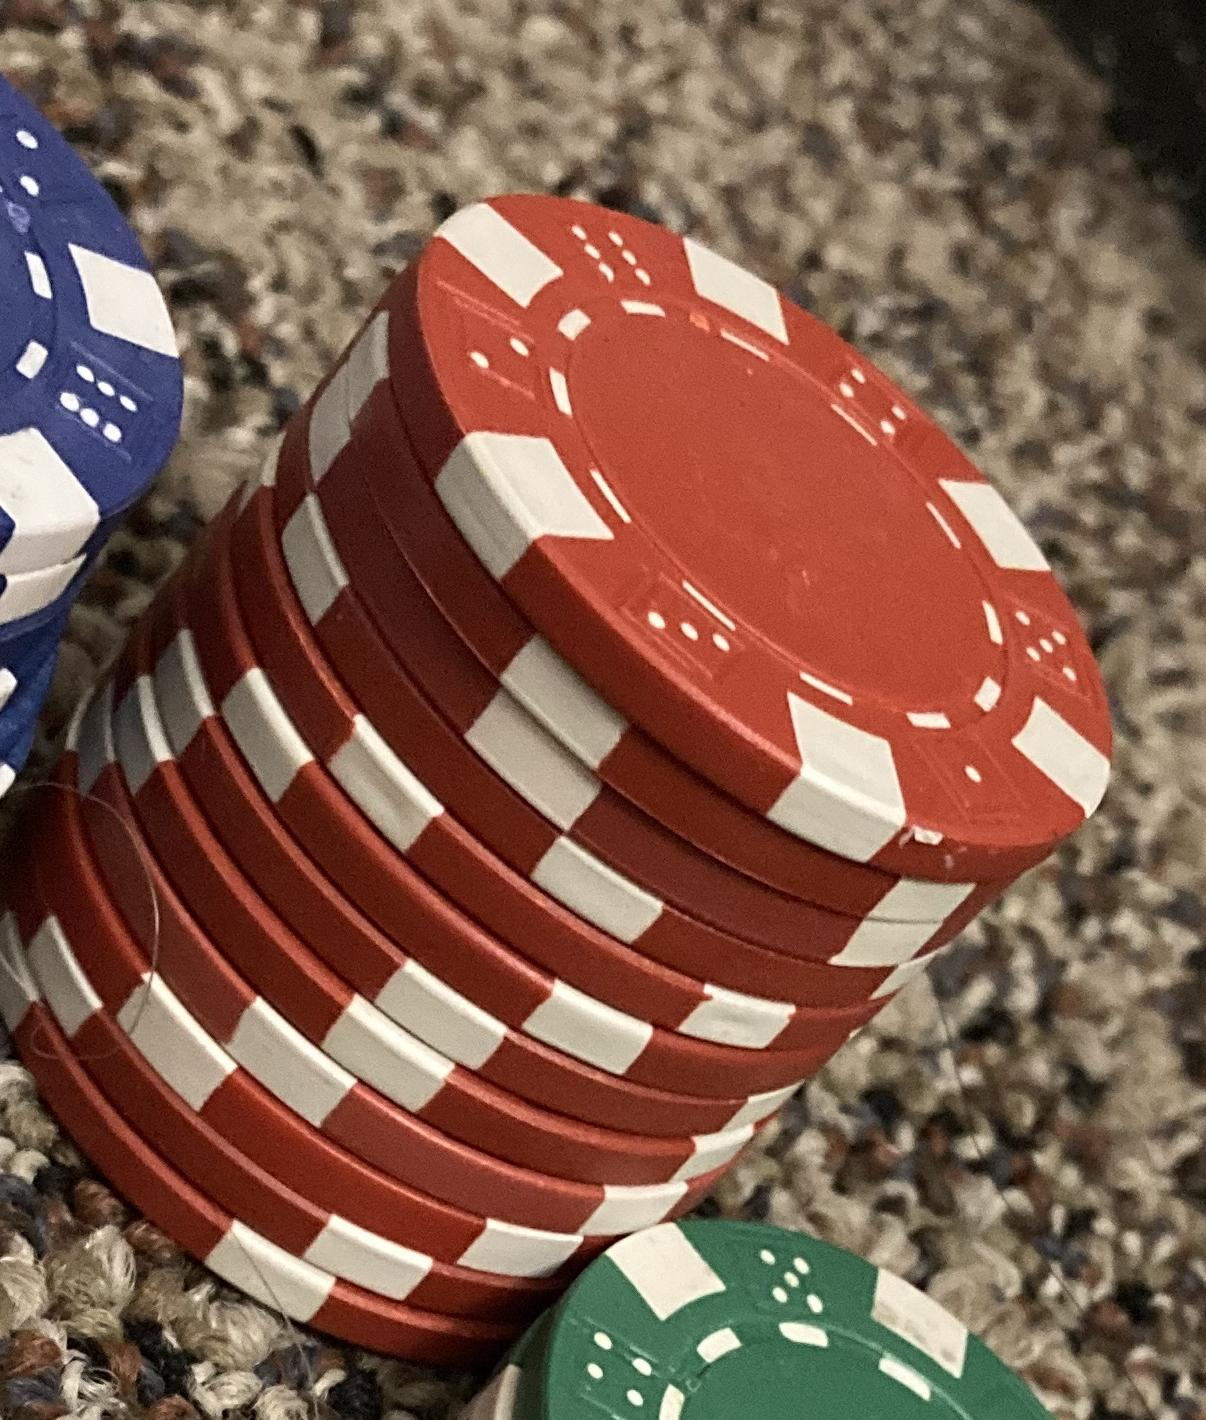Chip: (1, 1, 1206, 1420)
